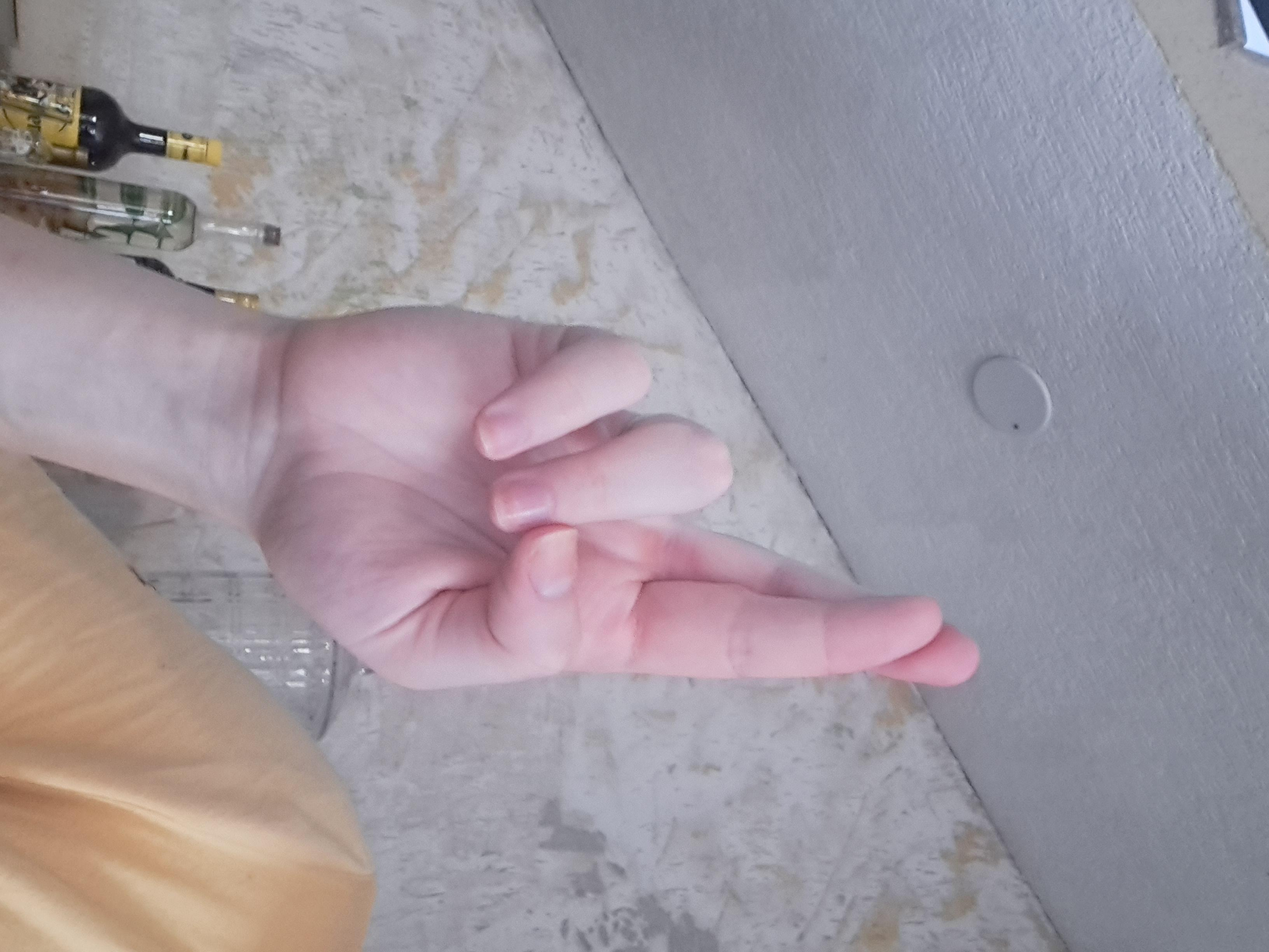R: (373, 213, 943, 776)
